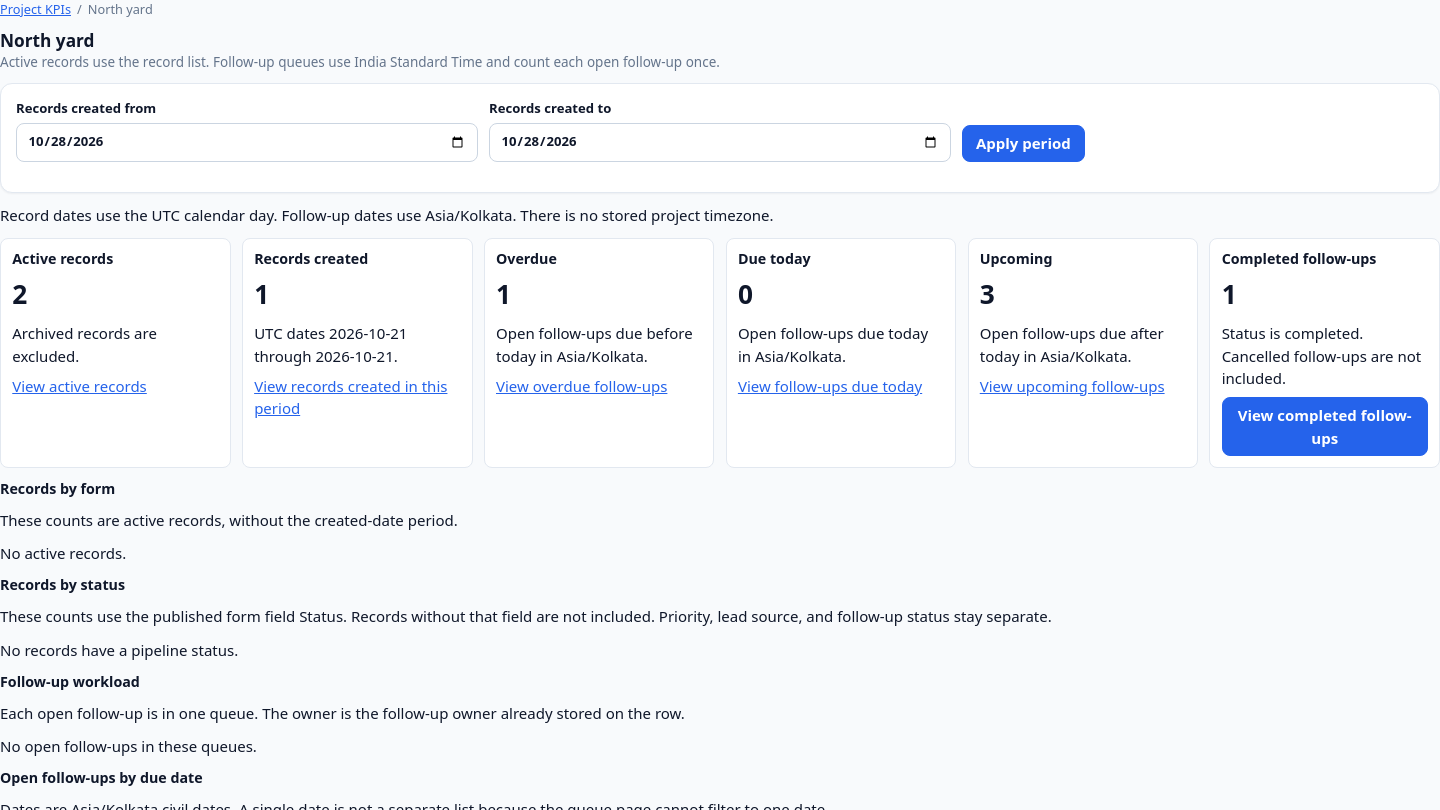
Test: shows an empty project and a completed list that reports the same count
This screenshot has width=1440, height=810.
Check: the text "No active records." is shown, box x1=0 y1=543 x2=126 y2=563
Check: the text "No records have a pipeline status." is shown, box x1=0 y1=640 x2=238 y2=660
Click the button "View completed follow-ups": (1325, 426) x1=1222 y1=397 x2=1428 y2=456
(page scrolled)
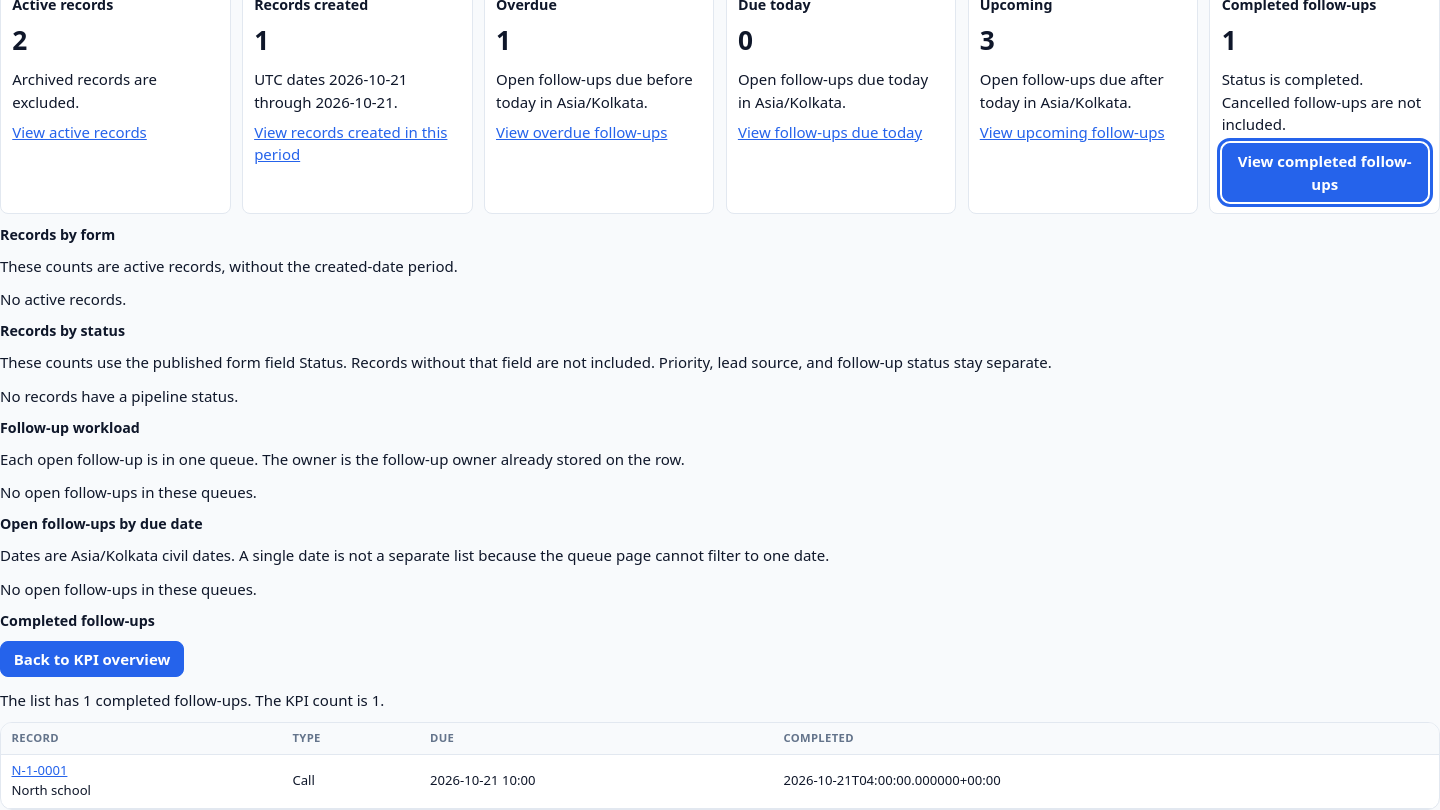
Check: the text "The list has 1 completed follow-ups. The KPI count is 1." is shown, box x1=0 y1=690 x2=384 y2=710
Check: the text "North school" is shown, box x1=12 y1=781 x2=91 y2=799
Click the button "Back to KPI overview": (92, 659) x1=0 y1=641 x2=184 y2=677
(page scrolled)
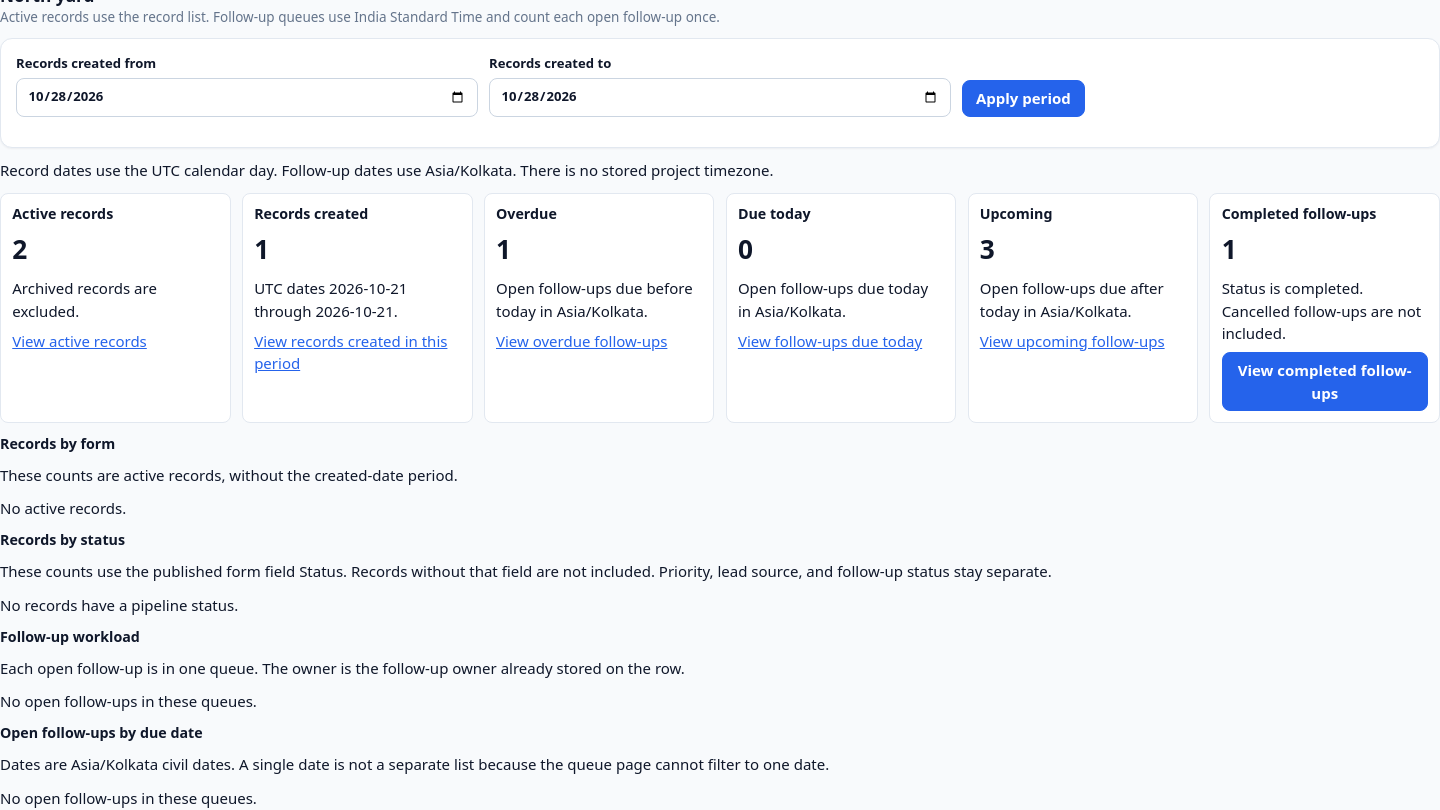
Check: the text "North school" is gone
